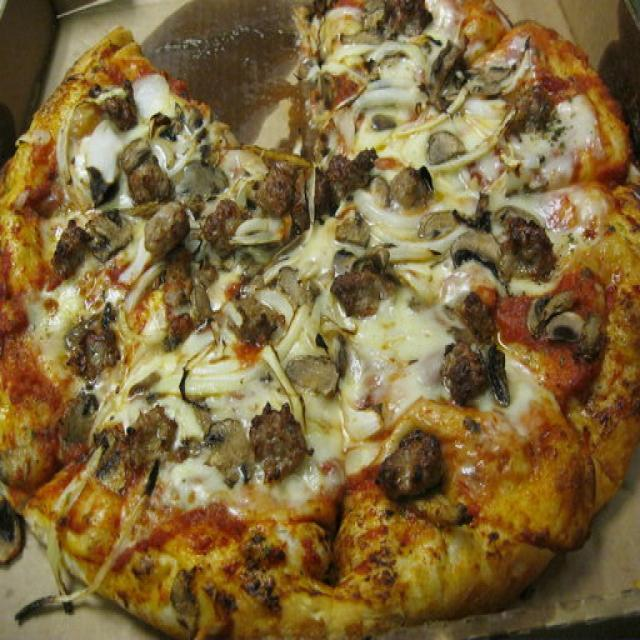Beef: (382, 431, 444, 493), (382, 432, 442, 493), (254, 411, 304, 470), (130, 410, 184, 462), (450, 332, 489, 400), (119, 148, 170, 199), (338, 264, 389, 314), (70, 320, 117, 372), (512, 228, 555, 282), (96, 85, 141, 131), (332, 157, 384, 193), (54, 214, 84, 276), (152, 207, 187, 248), (178, 264, 196, 343), (392, 2, 427, 36), (270, 168, 298, 210)
Mushrooms: (536, 290, 602, 360), (202, 414, 253, 494), (227, 288, 279, 340), (154, 106, 212, 152), (175, 157, 229, 201), (286, 350, 336, 394), (88, 202, 130, 254), (450, 231, 502, 272), (428, 38, 458, 108), (101, 428, 127, 495), (390, 170, 435, 203), (68, 390, 95, 442), (428, 128, 464, 164), (281, 268, 313, 308), (336, 209, 368, 245), (88, 170, 118, 206), (325, 324, 343, 369), (236, 174, 263, 203), (371, 107, 395, 135), (367, 58, 384, 82)
Onions: (100, 466, 164, 584), (125, 366, 257, 394), (372, 224, 451, 262), (56, 454, 101, 518), (56, 100, 77, 201), (258, 326, 289, 388), (127, 244, 158, 302), (374, 39, 430, 64), (231, 218, 284, 244), (387, 124, 430, 141)
Pizza: (2, 0, 640, 640)
